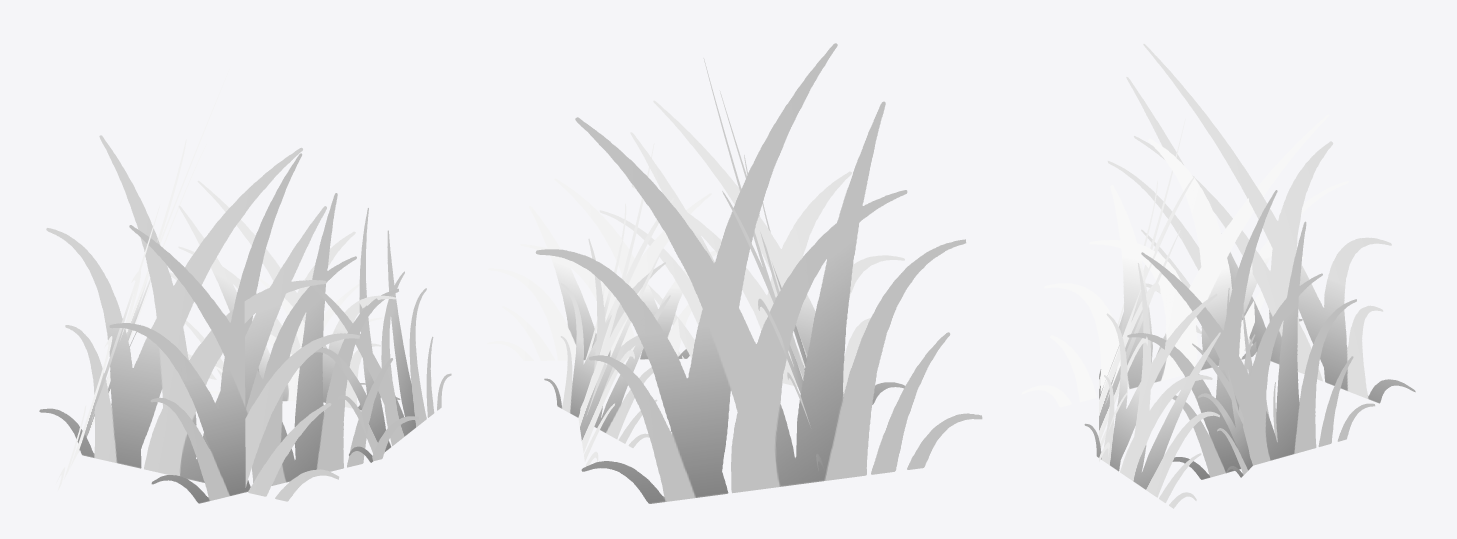
Rendered from Grass Bundle 1.fbx.
The picture shows the model from 3 angles, left to right: view 1: azimuth 30°, elevation 25°; view 2: azimuth 150°, elevation 25°; view 3: azimuth 270°, elevation 25°; orthographic projection. The views are drawn at different scales.
Visible parts, largest first — view 1: GrassPlane.006_LOD0, GrassPlane.001_LOD0, GrassPlane.005_LOD0, GrassPlane.003_LOD0, GrassPlane.002_LOD0, GrassPlane.004_LOD0; view 2: GrassPlane.002_LOD0, GrassPlane.001_LOD0, GrassPlane.005_LOD0, GrassPlane.004_LOD0, GrassPlane.003_LOD0, GrassPlane.006_LOD0; view 3: GrassPlane.003_LOD0, GrassPlane.006_LOD0, GrassPlane.002_LOD0, GrassPlane.005_LOD0, GrassPlane.001_LOD0, GrassPlane.004_LOD0.
Part boxes in pixels (x1,y1,x2,y2): GrassPlane.006_LOD0: (39,135,359,501); GrassPlane.001_LOD0: (109,153,418,503); GrassPlane.005_LOD0: (311,208,451,462); GrassPlane.003_LOD0: (169,180,400,410); GrassPlane.002_LOD0: (56,66,230,490); GrassPlane.004_LOD0: (209,278,382,401); GrassPlane.002_LOD0: (535,43,982,503); GrassPlane.001_LOD0: (599,100,904,404); GrassPlane.005_LOD0: (487,178,717,360); GrassPlane.004_LOD0: (544,238,670,447); GrassPlane.003_LOD0: (578,143,674,466); GrassPlane.006_LOD0: (703,58,825,472); GrassPlane.003_LOD0: (1127,190,1375,479); GrassPlane.006_LOD0: (1021,114,1348,407); GrassPlane.002_LOD0: (1107,44,1415,403); GrassPlane.005_LOD0: (1084,263,1220,508); GrassPlane.001_LOD0: (1099,118,1194,461); GrassPlane.004_LOD0: (1192,288,1277,477).
Size of what is drawn, in the model's own units: 307 by 237 by 267.
